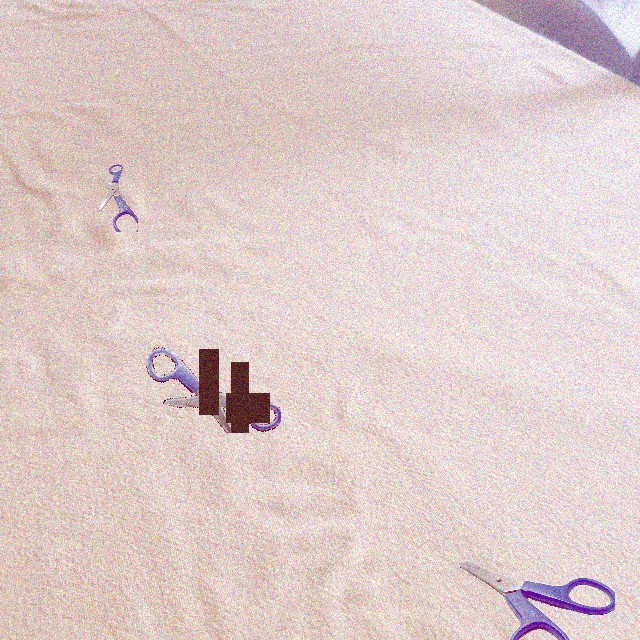scissors: (458, 560, 615, 640), (146, 347, 281, 433), (99, 164, 138, 232)
